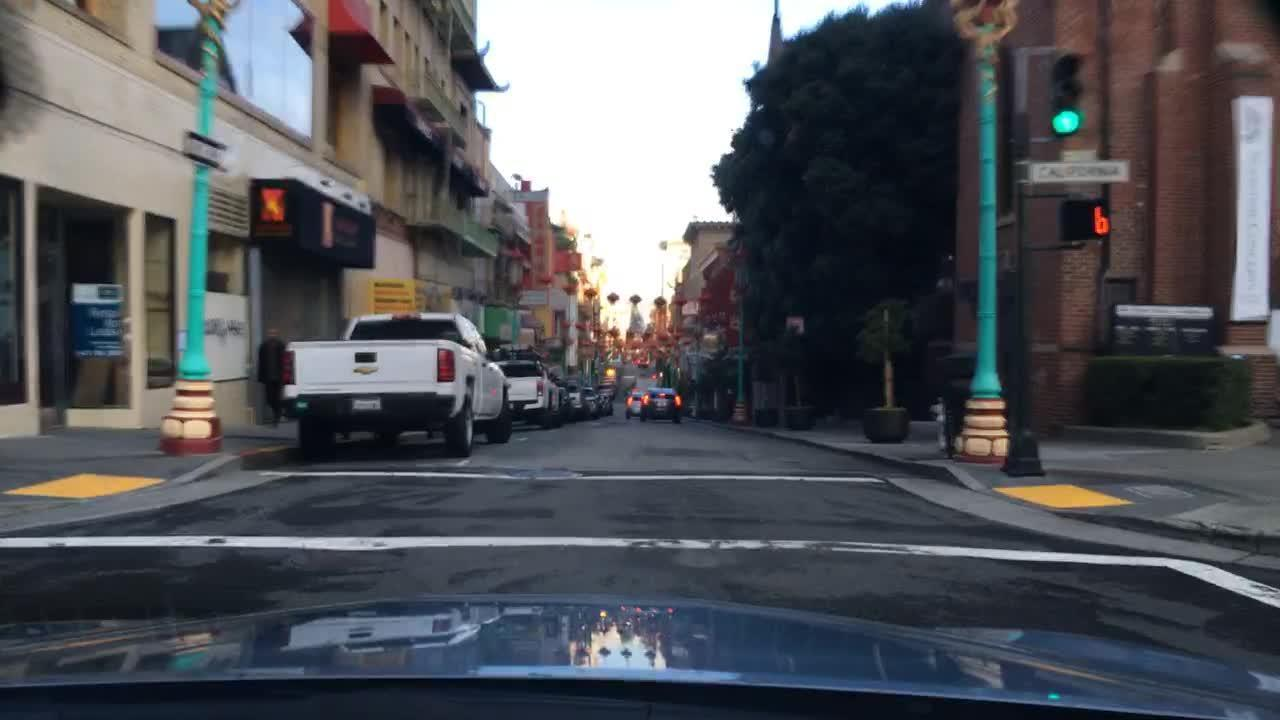chevrolet: (345, 360, 393, 379)
